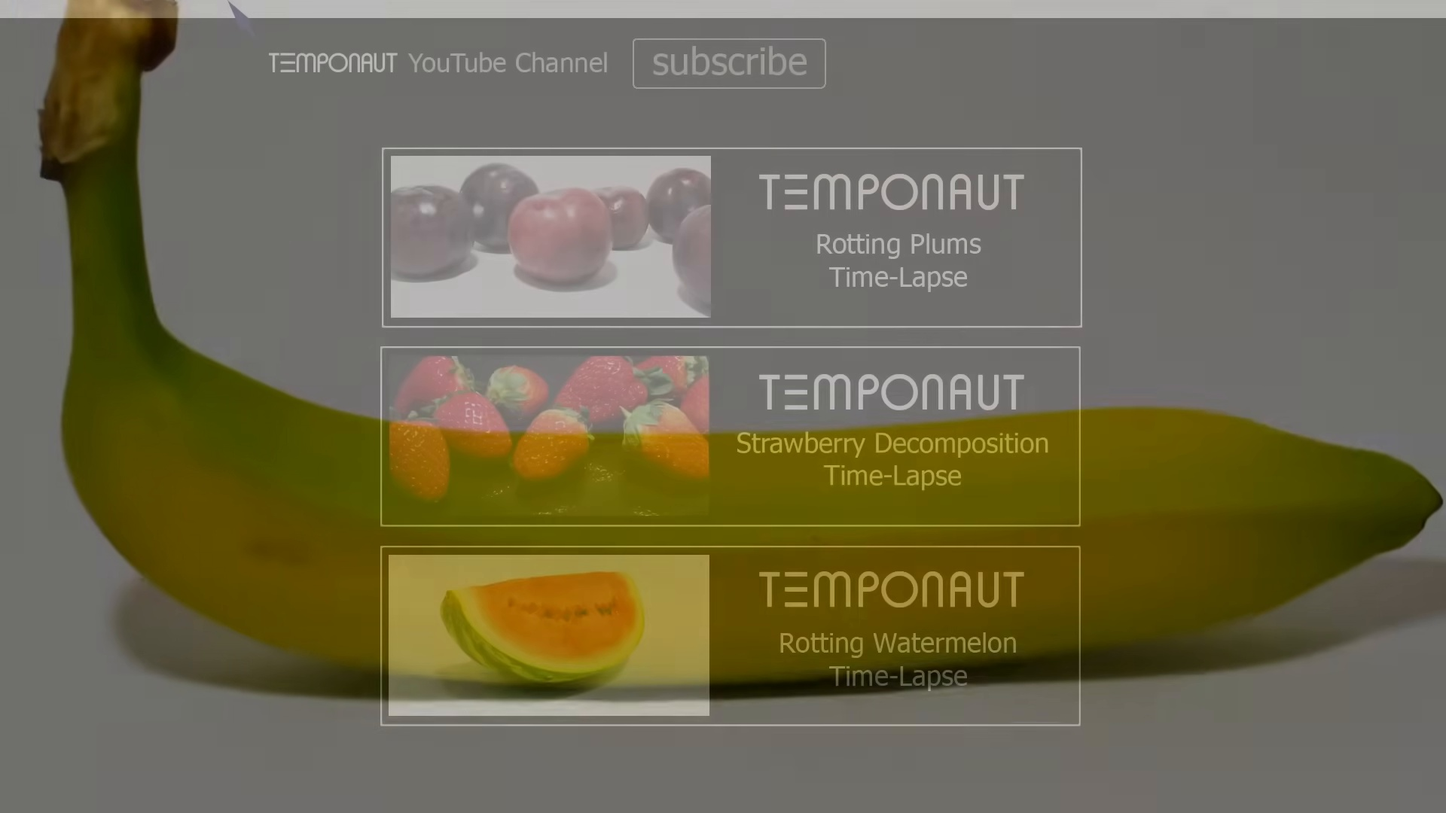banana_rotten: (37, 0, 1407, 696)
